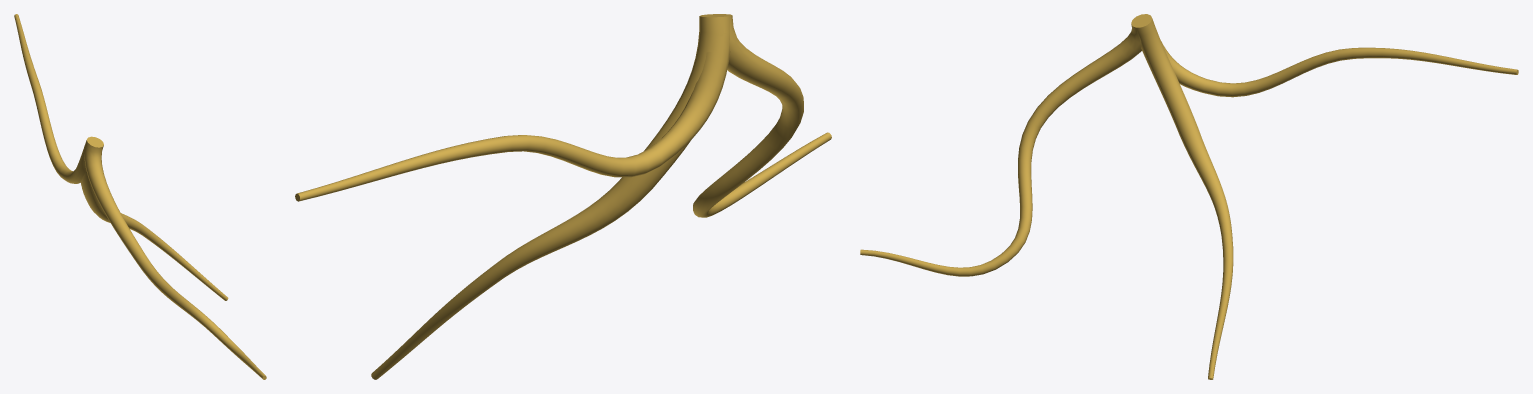
3 views of the same model, side by side, from view 1: azimuth 30°, elevation 25°; view 2: azimuth 150°, elevation 25°; view 3: azimuth 270°, elevation 25° (orthographic). The views are drawn at different scales.
Parts seen in each view (by area): view 1: 右侧颏神经; view 2: 右侧颏神经; view 3: 右侧颏神经.
Boxes of the visible parts, x1,y1,x2,y2 form: 右侧颏神经: [14, 14, 266, 379]; 右侧颏神经: [295, 14, 831, 379]; 右侧颏神经: [860, 14, 1518, 379].
Bounding box in the file's own units: 0.00653 × 0.0079 × 0.0175.
